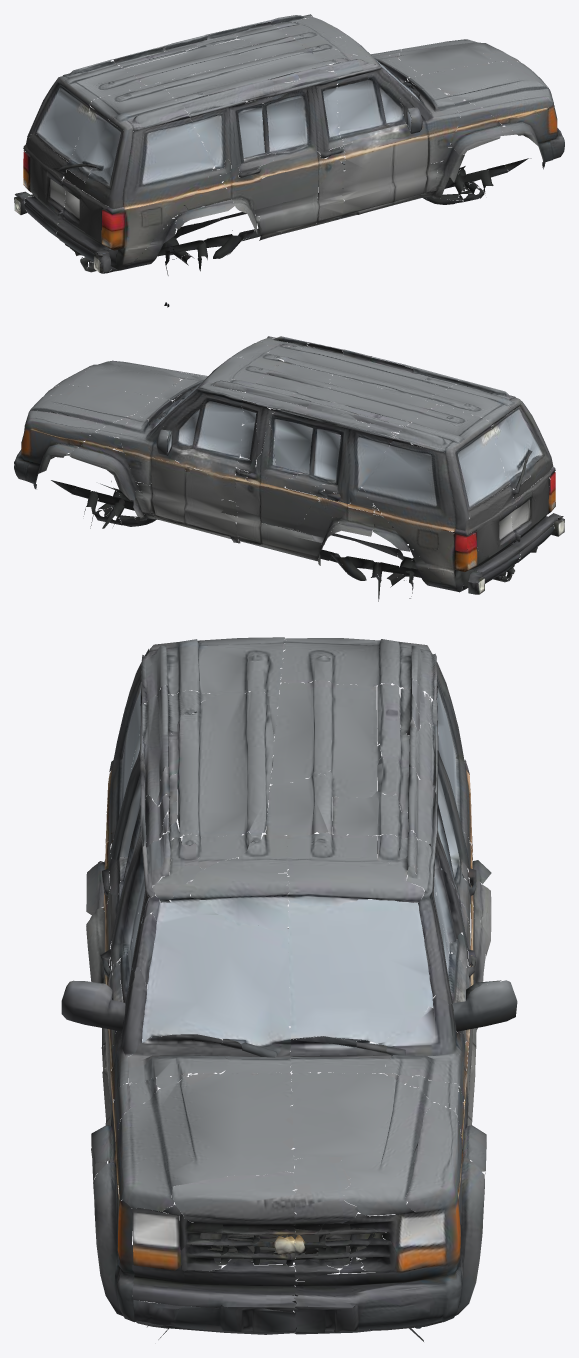
File: gusta_cherokee.glb
3 views of the same model, one above another, from view 1: azimuth 30°, elevation 25°; view 2: azimuth 150°, elevation 25°; view 3: azimuth 270°, elevation 25° (orthographic). The views are drawn at different scales.
Visible parts, largest first — view 1: V_BODY; view 2: V_BODY; view 3: V_BODY.
Part boxes in pixels (left/top/right/bottom): V_BODY: left=14, top=14, right=564, bottom=307; V_BODY: left=14, top=336, right=564, bottom=601; V_BODY: left=61, top=637, right=517, bottom=1341.
Size of the model in its own units: 4.3 by 1.62 by 1.77.
Materials: 1 (1 with a texture image).
